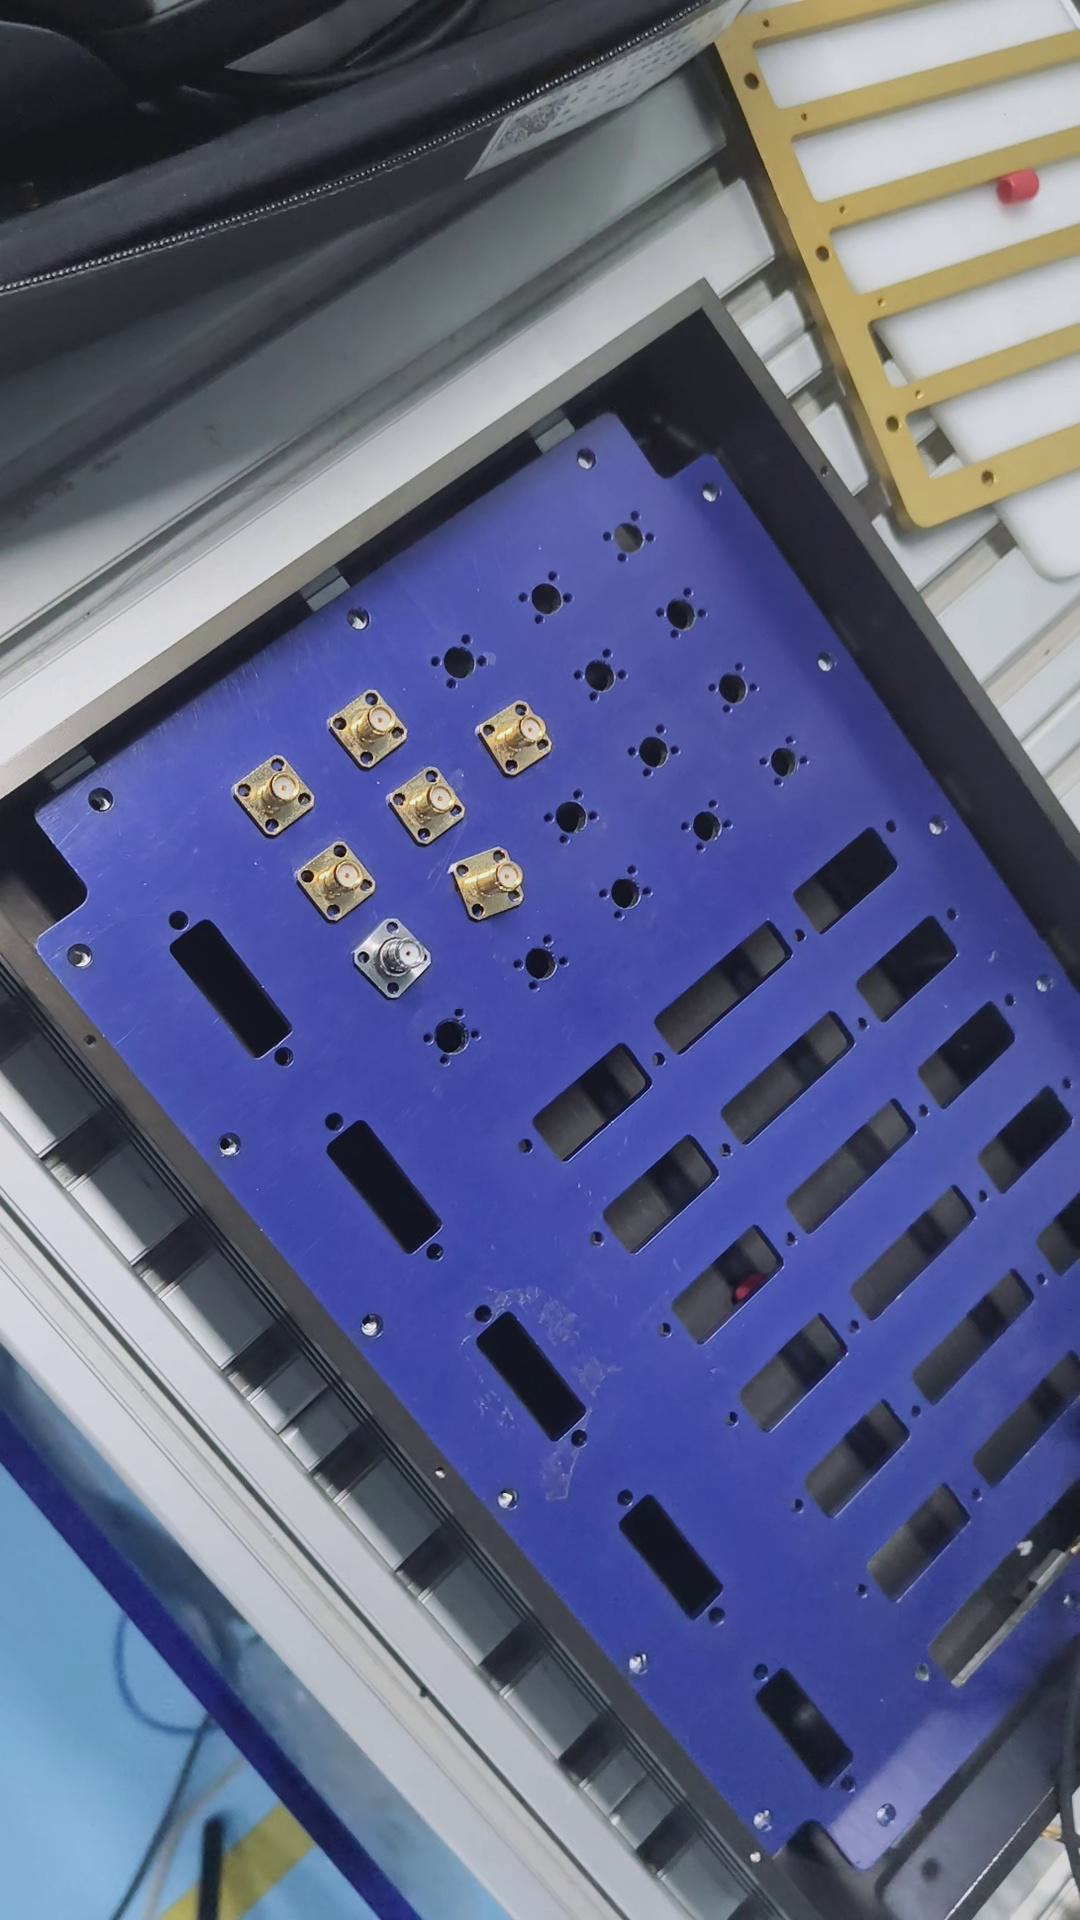SMA: (231, 750, 319, 837), (291, 836, 381, 918), (355, 913, 439, 996), (328, 688, 413, 767), (481, 696, 560, 781), (392, 762, 469, 844), (455, 847, 529, 922)
